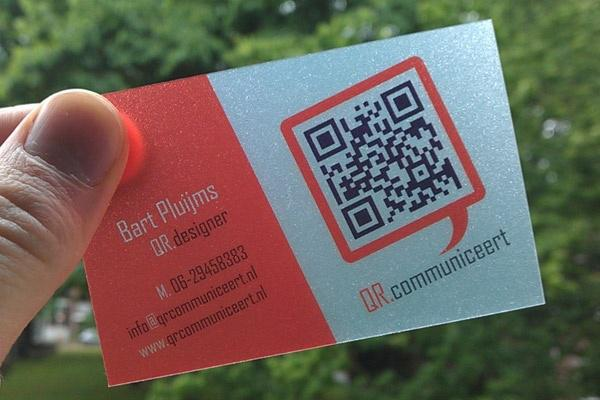Finder pattern: (339, 192, 384, 240), (302, 116, 346, 161), (379, 78, 423, 123)
